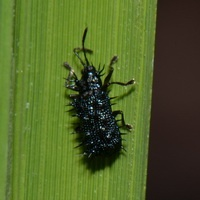insect: (63, 28, 134, 157)
